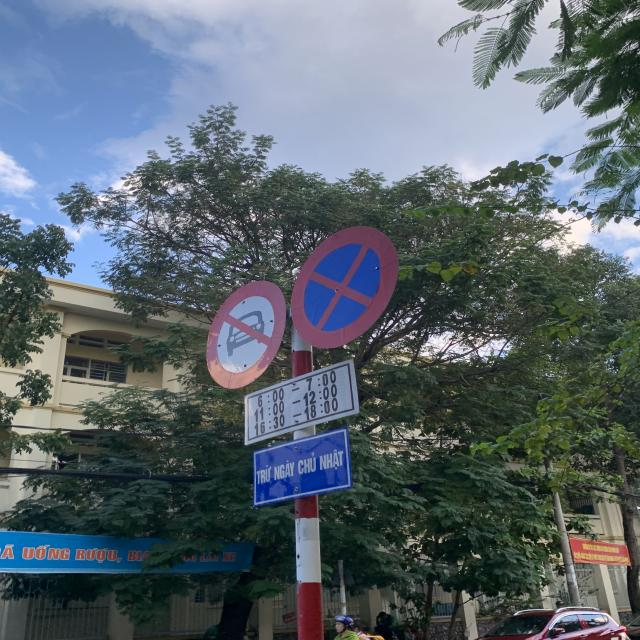Cam_Dung_Va_Dau_Xe: (292, 227, 401, 349)
Cam_O_To: (205, 281, 286, 390)
